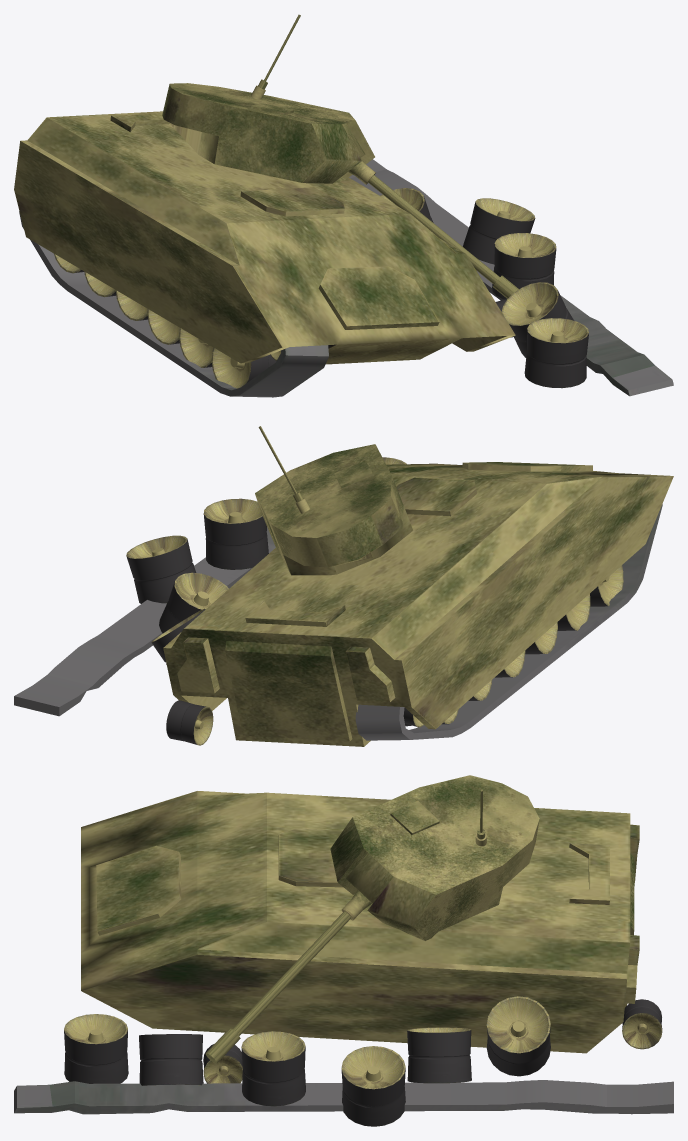
Rendered from GenericTank#1Destroyed.fbx.
3 views of the same model, one above another, from view 1: azimuth 30°, elevation 25°; view 2: azimuth 150°, elevation 25°; view 3: azimuth 270°, elevation 25° (orthographic). The views are drawn at different scales.
Visible parts, largest first — view 1: Tank_Body, Turret_Body, Right_Track, Left_Track, Left_BigWheel1, Left_BigWheel3, Left_BigWheel4, Left_BigWheel2, Weapon, Right_BigWheel1, Right_BigWheel2, Right_BigWheel3; view 2: Tank_Body, Turret_Body, Left_Track, Right_Track, Left_BigWheel3, Left_BigWheel4, Left_BigWheel5, Left_SmallWheel2, Right_BigWheel1, Right_BigWheel2, Left_BigWheel6, Right_BigWheel3; view 3: Tank_Body, Turret_Body, Left_Track, Left_BigWheel4, Left_BigWheel3, Left_BigWheel6, Left_BigWheel1, Left_BigWheel5, Left_BigWheel2, Weapon, Left_SmallWheel2, Left_SmallWheel1.
Boxes of the visible parts, box(x1,y1,x2,y2) form: Tank_Body: box(14, 111, 515, 364); Turret_Body: box(162, 83, 374, 183); Right_Track: box(19, 211, 328, 397); Left_Track: box(349, 159, 673, 396); Left_BigWheel1: box(524, 318, 588, 388); Left_BigWheel3: box(492, 233, 556, 299); Left_BigWheel4: box(463, 198, 535, 264); Left_BigWheel2: box(501, 282, 574, 357); Weapon: box(348, 160, 518, 298); Right_BigWheel1: box(211, 347, 276, 388); Right_BigWheel2: box(179, 328, 213, 367); Right_BigWheel3: box(147, 309, 179, 344); Tank_Body: box(163, 462, 673, 746); Turret_Body: box(255, 444, 413, 575); Left_Track: box(14, 527, 275, 716); Right_Track: box(355, 504, 662, 740); Left_BigWheel3: box(203, 498, 268, 569); Left_BigWheel4: box(126, 535, 196, 603); Left_BigWheel5: box(159, 572, 228, 632); Left_SmallWheel2: box(166, 700, 213, 745); Right_BigWheel1: box(590, 565, 623, 606); Right_BigWheel2: box(557, 593, 590, 630); Left_BigWheel6: box(151, 608, 205, 664); Right_BigWheel3: box(525, 622, 557, 654); Tank_Body: box(81, 791, 639, 1053); Turret_Body: box(330, 775, 539, 940); Left_Track: box(14, 1080, 673, 1114); Left_BigWheel4: box(341, 1046, 405, 1126); Left_BigWheel3: box(241, 1031, 305, 1106); Left_BigWheel6: box(486, 996, 550, 1076); Left_BigWheel1: box(64, 1014, 128, 1083); Left_BigWheel5: box(407, 1027, 471, 1083); Left_BigWheel2: box(139, 1034, 203, 1085); Weapon: box(205, 890, 372, 1063); Left_SmallWheel2: box(622, 999, 662, 1049); Left_SmallWheel1: box(203, 1044, 242, 1083).
Bounding box in the file's own units: 0.178 × 0.1064 × 0.2452.
1 material, 1 textured.
